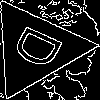D: (10, 23, 74, 77)
